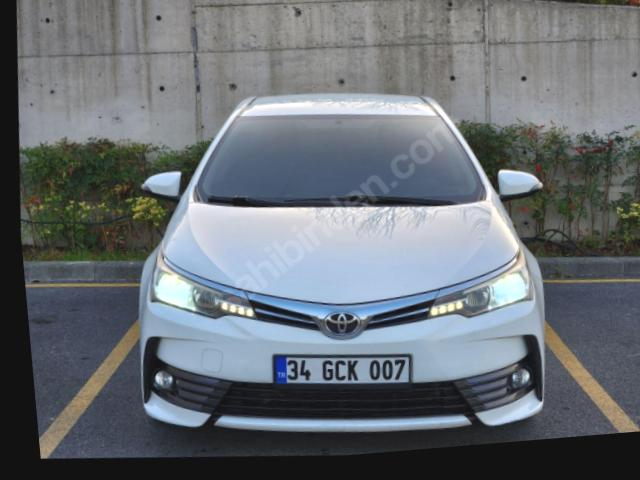plaka: (275, 355, 410, 383)
